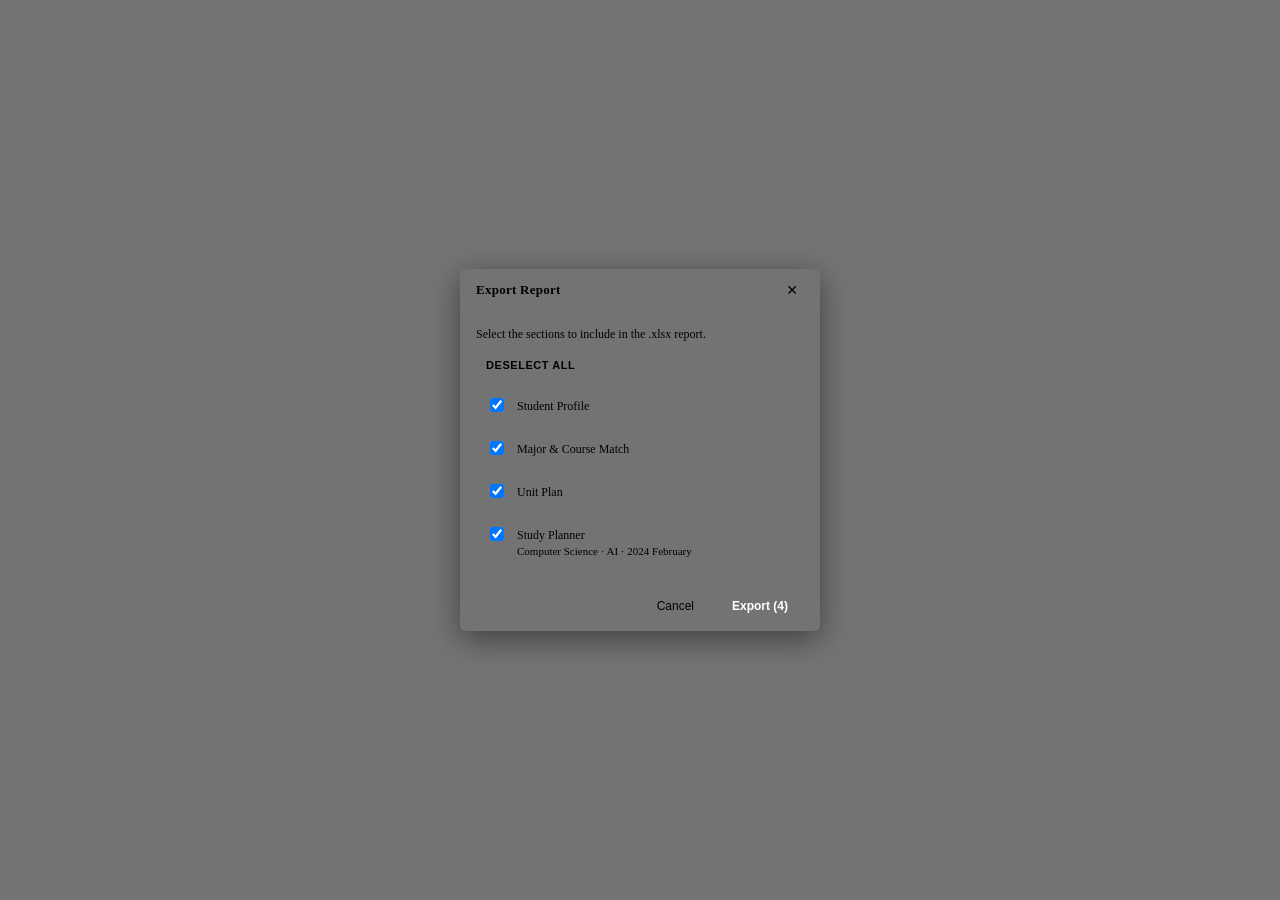
Test case: ExportModal › ExportModal: toggles individual sections
This screenshot has width=1280, height=900.
Click the checkbox labelled "Student Profile". click: click(497, 405)
box: [490, 398, 504, 412]
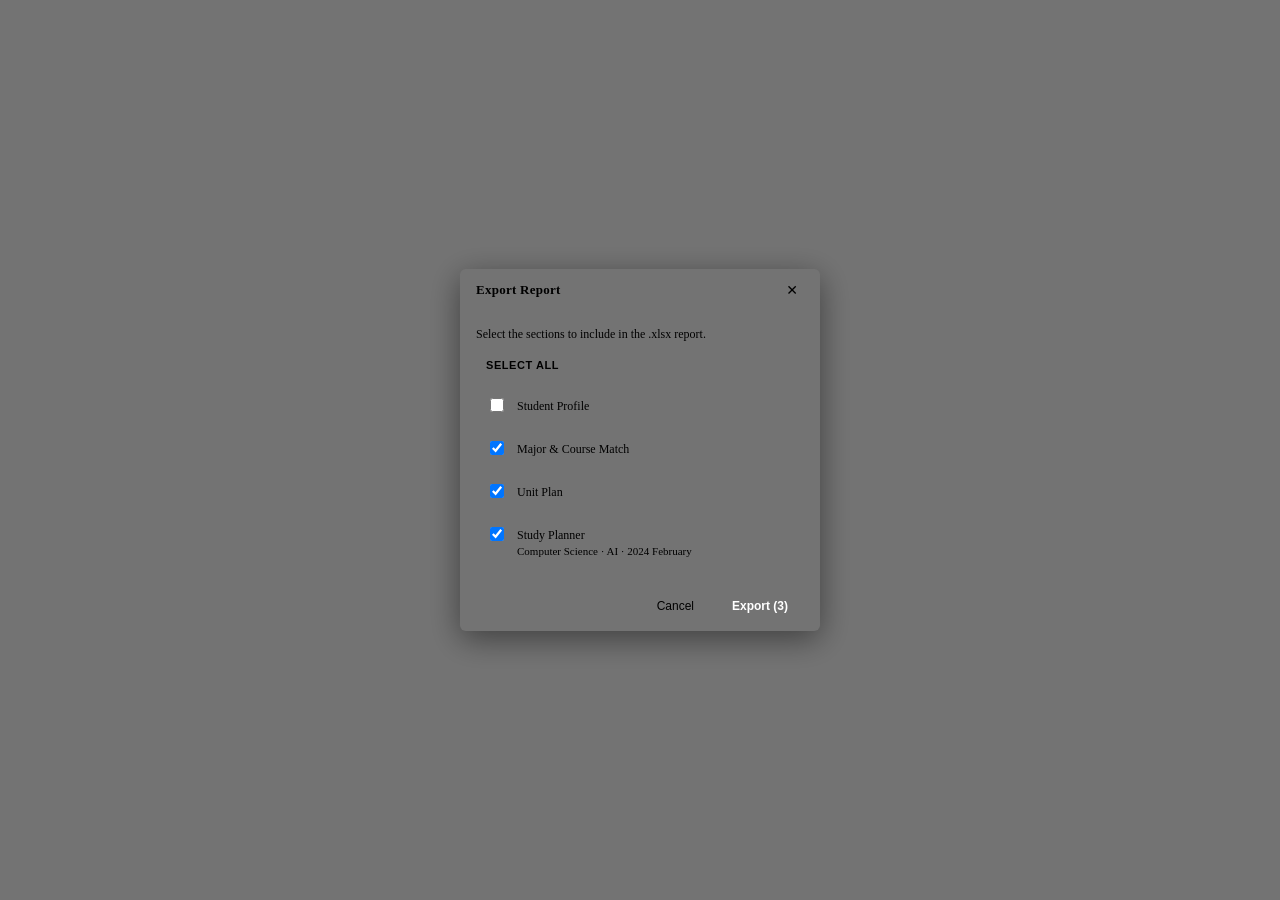
Now the button "Export (3)" is shown, box [716, 593, 804, 619]
Click the checkbox labelled "Student Profile". click: click(497, 405)
box: [490, 398, 504, 412]
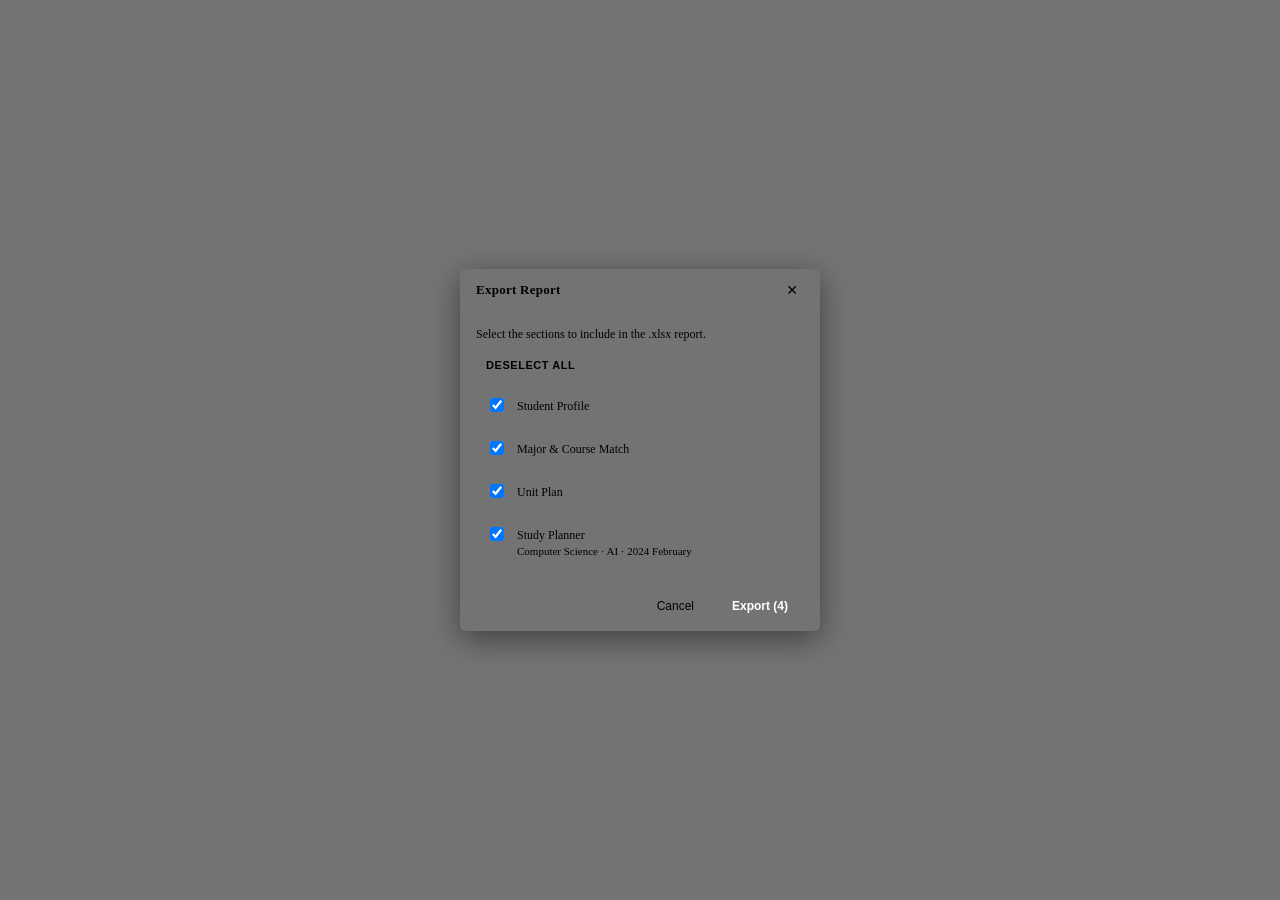
Now the button "Export (4)" is shown, box [716, 593, 804, 619]
